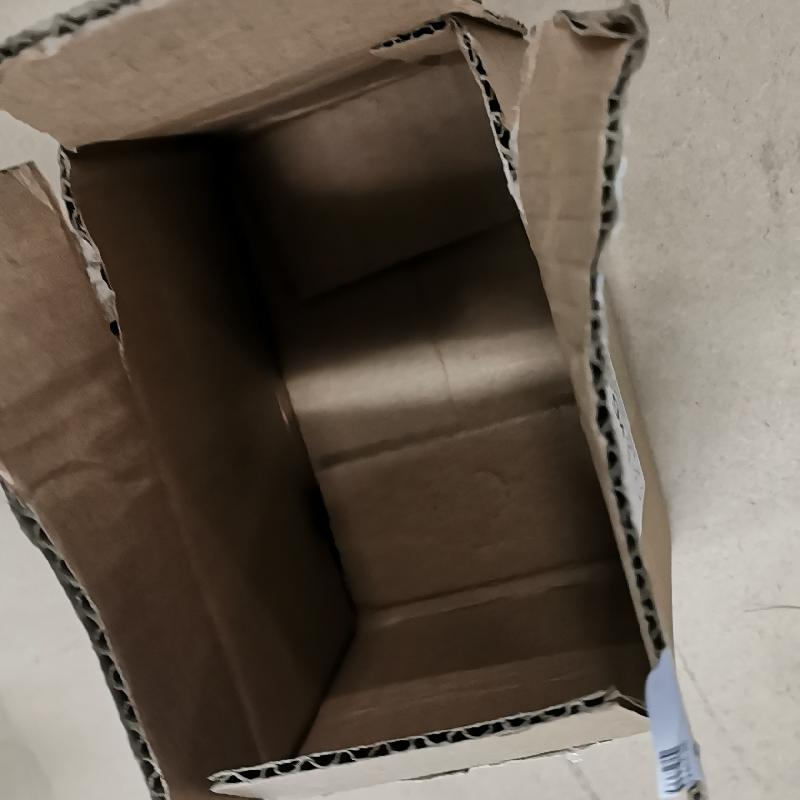boxes: (0, 0, 704, 790)
